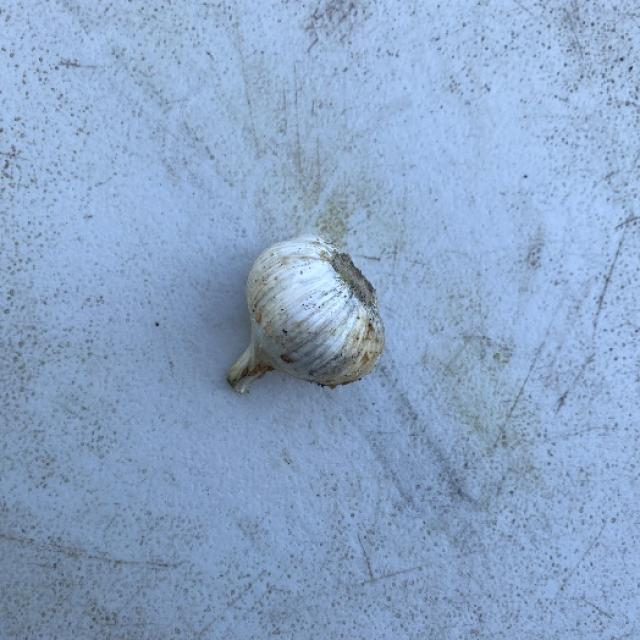organic: (219, 226, 385, 405)
